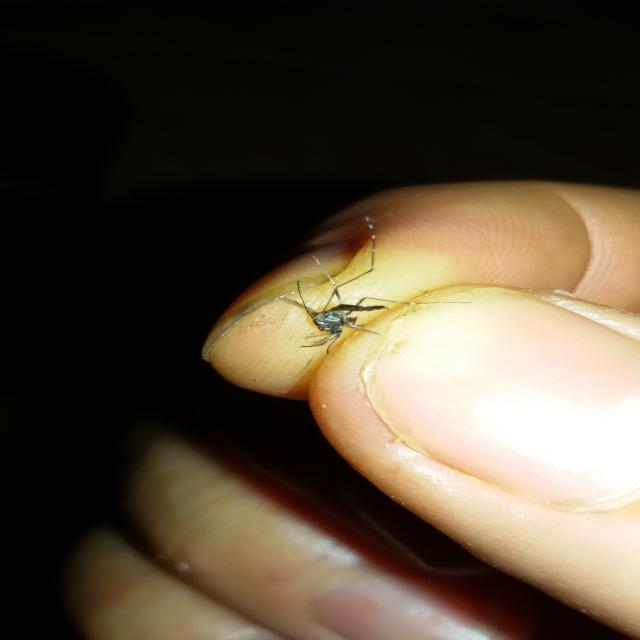albopictus: (253, 238, 496, 367)
